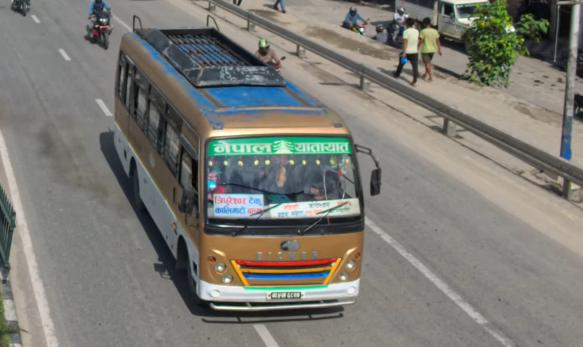bus: (107, 23, 367, 312)
